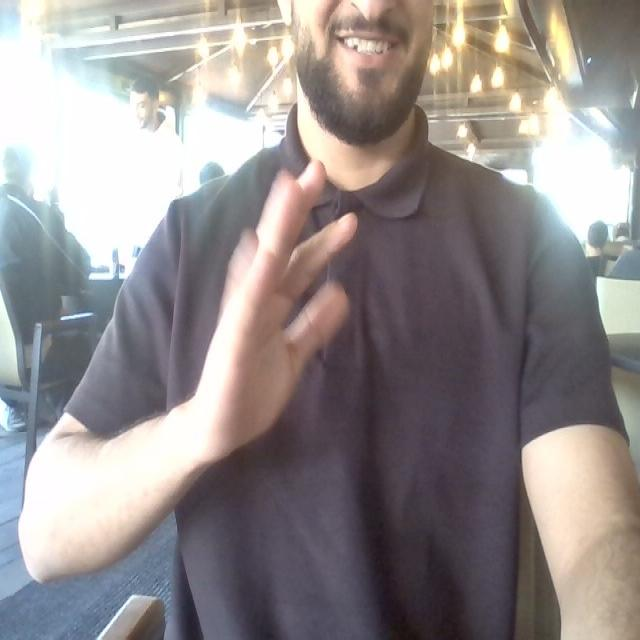Hand: (187, 162, 355, 463)
